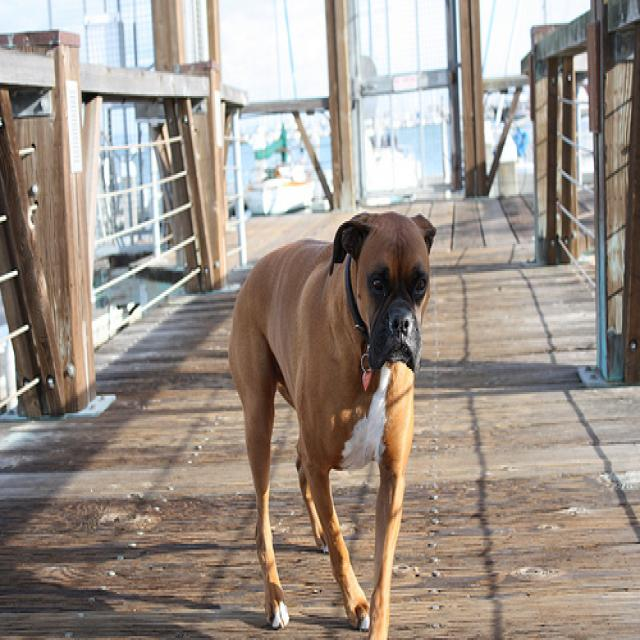dog-boxer: (225, 204, 439, 636)
